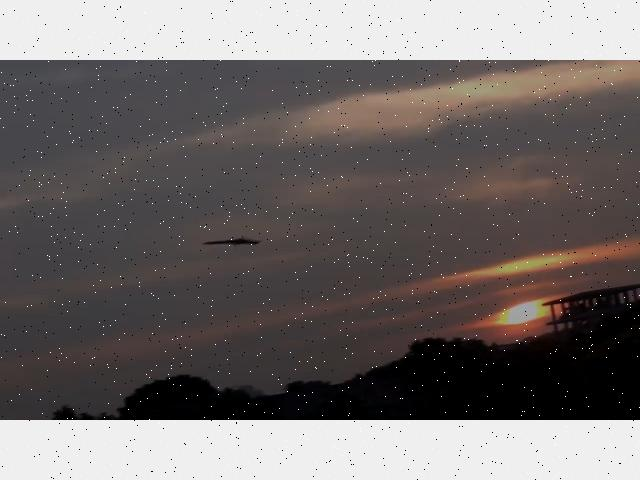Anti-Drone: (203, 238, 261, 244)
